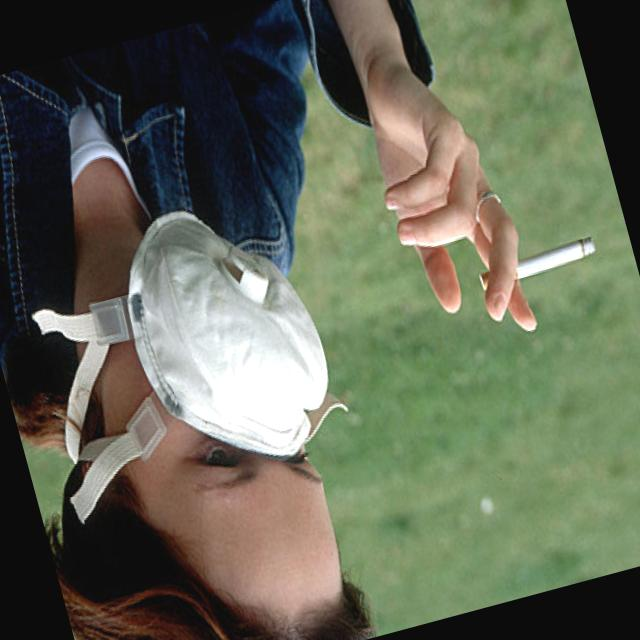cigarette: (473, 228, 602, 298)
